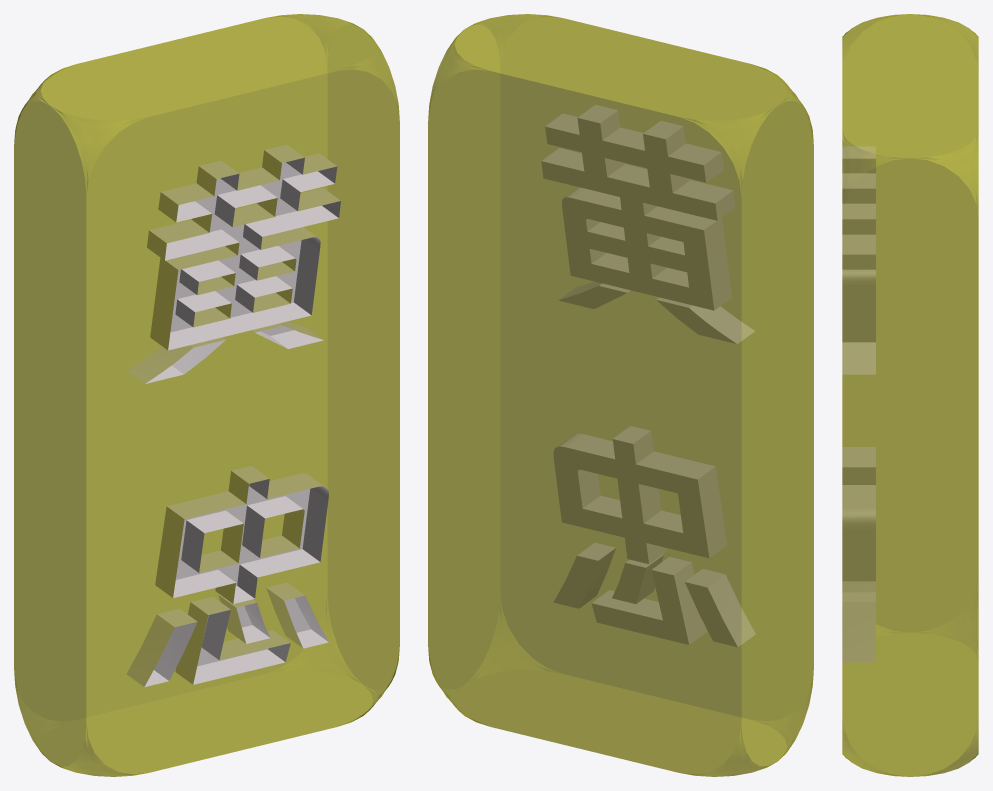
Rendered from huangzhong.gltf.
3 renders of one model, left to right at view 1: azimuth 30°, elevation 25°; view 2: azimuth 150°, elevation 25°; view 3: azimuth 270°, elevation 25°, orthographic. The views are drawn at different scales.
Parts seen in each view (by area): view 1: g, 黄, 忠; view 2: g, 黄, 忠; view 3: g, 黄, 忠.
Part boxes in pixels (bbox=[...]): g: bbox=[14, 14, 399, 776]; 黄: bbox=[127, 144, 340, 383]; 忠: bbox=[127, 466, 328, 687]; g: bbox=[428, 14, 813, 776]; 黄: bbox=[541, 104, 754, 343]; 忠: bbox=[553, 426, 755, 647]; g: bbox=[842, 14, 978, 776]; 黄: bbox=[842, 146, 875, 374]; 忠: bbox=[842, 447, 875, 662].
Size of the model in its own units: 200 by 400 by 80.
